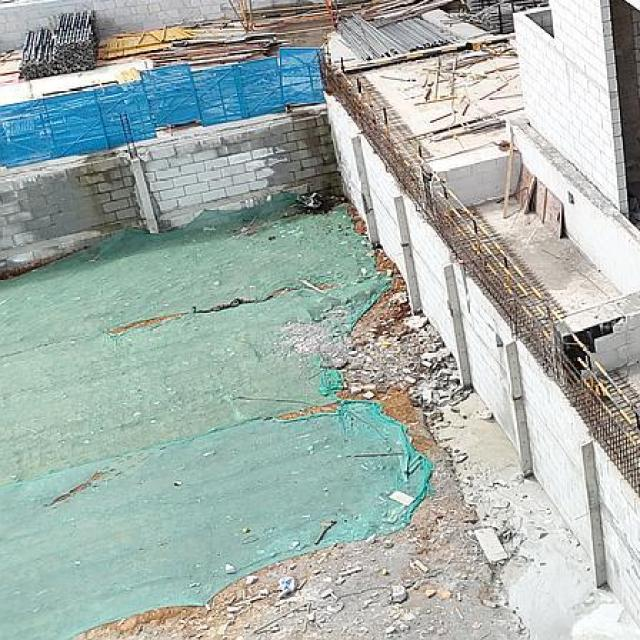Guardrail: (434, 173, 640, 428)
